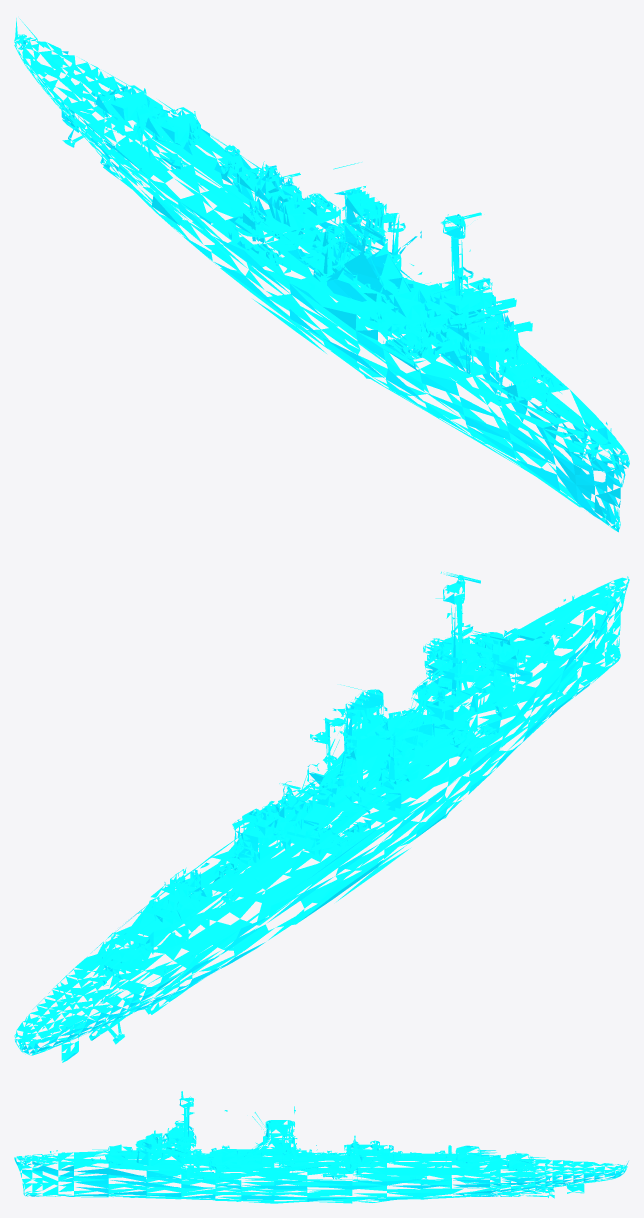
Rendered from Leipzig.glb.
The picture shows the model from 3 angles, top to bottom: view 1: azimuth 30°, elevation 25°; view 2: azimuth 150°, elevation 25°; view 3: azimuth 270°, elevation 25°; orthographic projection. The views are drawn at different scales.
Bounding box in the file's own units: 1.12 × 2.15 × 11.84.
